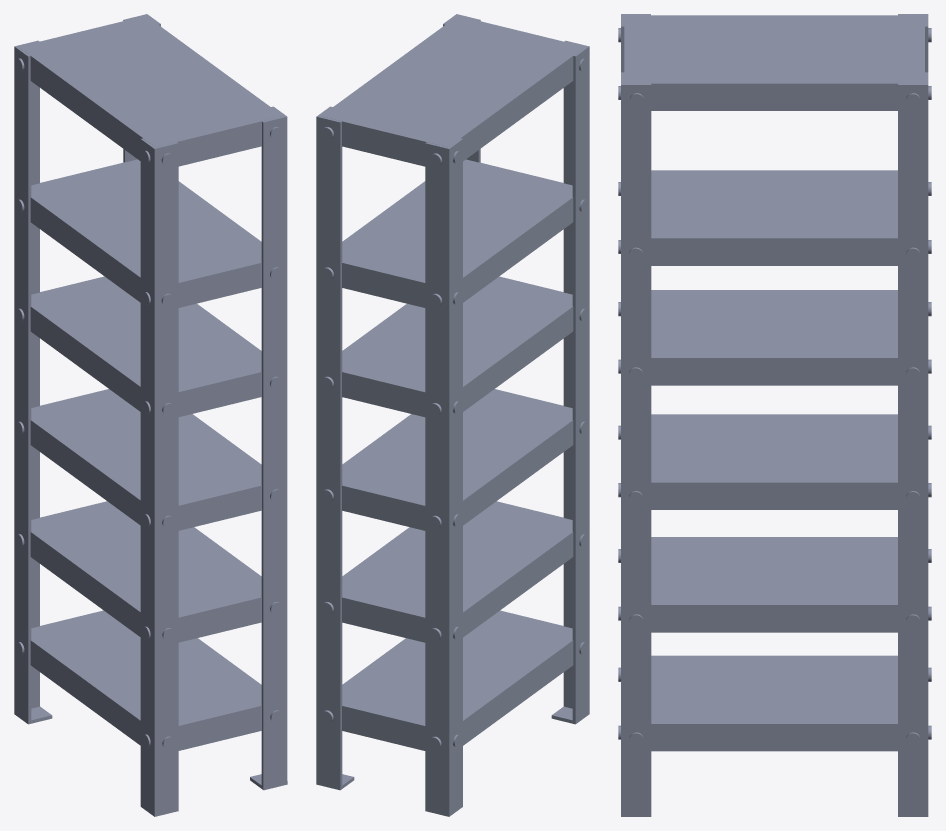
Rendered from shelfs.fbx.
The picture shows the model from 3 angles, left to right: view 1: azimuth 30°, elevation 25°; view 2: azimuth 150°, elevation 25°; view 3: azimuth 270°, elevation 25°; orthographic projection. The views are drawn at different scales.
Parts seen in each view (by area): view 1: ножка 3.1, полка 6, полка 5, ножка 1.2, полка 3, полка 2, полка 4, полка 1, ножка 4.1; view 2: ножка 4.1, полка 6, полка 5, ножка 2.2, полка 3, полка 2, полка 4, полка 1, ножка 3.1; view 3: полка 6, полка 1, полка 2, полка 3, полка 4, полка 5, ножка 2.2, ножка 1.2.
Part boxes in pixels (bbox=[...]): ножка 3.1: bbox=[140, 138, 178, 816]; полка 6: bbox=[18, 15, 282, 166]; полка 5: bbox=[30, 159, 261, 307]; ножка 1.2: bbox=[261, 106, 287, 789]; полка 3: bbox=[30, 389, 261, 530]; полка 2: bbox=[30, 501, 261, 642]; полка 4: bbox=[30, 276, 261, 416]; полка 1: bbox=[30, 610, 261, 750]; ножка 4.1: bbox=[14, 40, 39, 724]; ножка 4.1: bbox=[425, 138, 462, 816]; полка 6: bbox=[321, 16, 584, 166]; полка 5: bbox=[342, 159, 573, 307]; ножка 2.2: bbox=[316, 106, 342, 790]; полка 3: bbox=[342, 389, 573, 530]; полка 2: bbox=[342, 501, 573, 642]; полка 4: bbox=[342, 276, 573, 417]; полка 1: bbox=[342, 610, 573, 750]; ножка 3.1: bbox=[563, 40, 589, 723]; полка 6: bbox=[624, 15, 924, 110]; полка 1: bbox=[651, 655, 897, 751]; полка 2: bbox=[651, 537, 897, 632]; полка 3: bbox=[651, 414, 897, 509]; полка 4: bbox=[651, 290, 897, 385]; полка 5: bbox=[651, 170, 897, 265]; ножка 2.2: bbox=[898, 72, 928, 816]; ножка 1.2: bbox=[621, 72, 651, 813].
Bounding box in the file's own units: 171 × 800 × 310.
